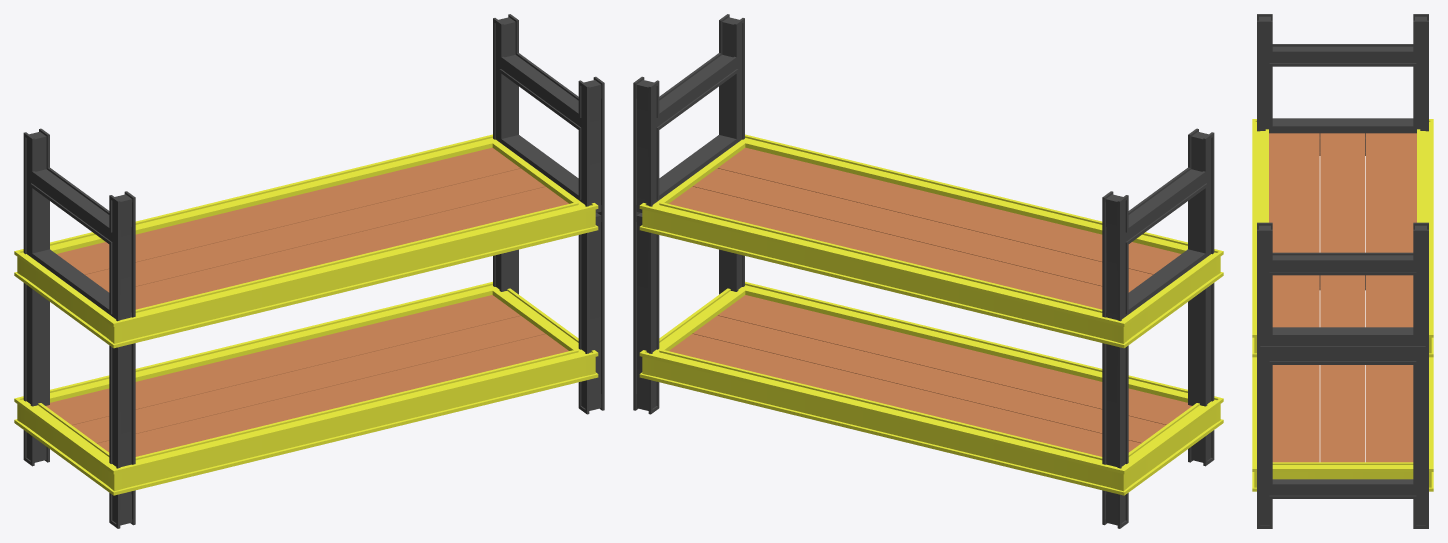
File: Props_BoxShelf_Yellow.fbx
3 renders of one model, left to right at view 1: azimuth 30°, elevation 25°; view 2: azimuth 150°, elevation 25°; view 3: azimuth 270°, elevation 25°, orthographic. The views are drawn at different scales.
Parts seen in each view (by area): view 1: Props_BoxShelf_Yellow; view 2: Props_BoxShelf_Yellow; view 3: Props_BoxShelf_Yellow.
Boxes of the visible parts, bbox=[...] form: Props_BoxShelf_Yellow: bbox=[14, 14, 604, 528]; Props_BoxShelf_Yellow: bbox=[633, 14, 1223, 528]; Props_BoxShelf_Yellow: bbox=[1252, 14, 1433, 528].
Size of the model in its own units: 316 by 200 by 110.
